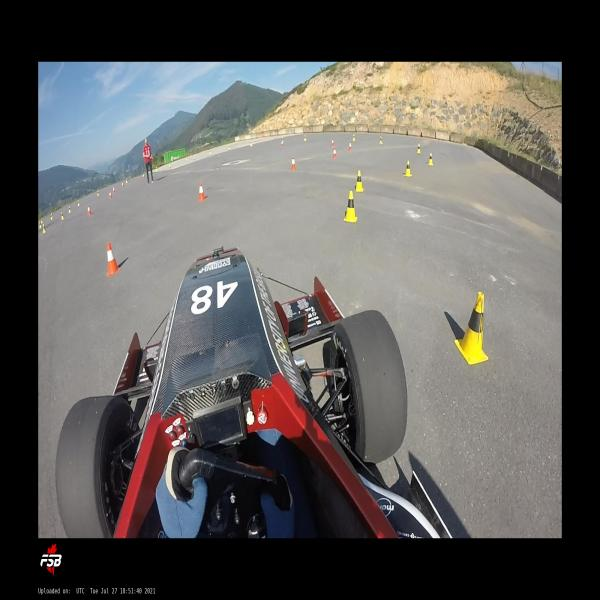orange_cone: (106, 242, 122, 277), (198, 182, 207, 202), (87, 205, 92, 215), (292, 157, 296, 169), (333, 147, 337, 158), (348, 142, 352, 151), (109, 191, 112, 199), (331, 138, 334, 146), (281, 140, 283, 146), (113, 187, 115, 193), (122, 182, 124, 187)
yellow_cone: (455, 292, 488, 366), (343, 190, 357, 222), (354, 170, 364, 192), (403, 160, 412, 177), (428, 152, 433, 166), (417, 144, 421, 154), (379, 135, 383, 144), (352, 133, 356, 141), (304, 134, 307, 142), (61, 212, 64, 220), (43, 224, 45, 233), (41, 216, 43, 224), (39, 221, 41, 229), (69, 206, 71, 214), (97, 189, 99, 196), (50, 214, 52, 220), (78, 200, 80, 206), (51, 213, 53, 219), (126, 178, 127, 184)
